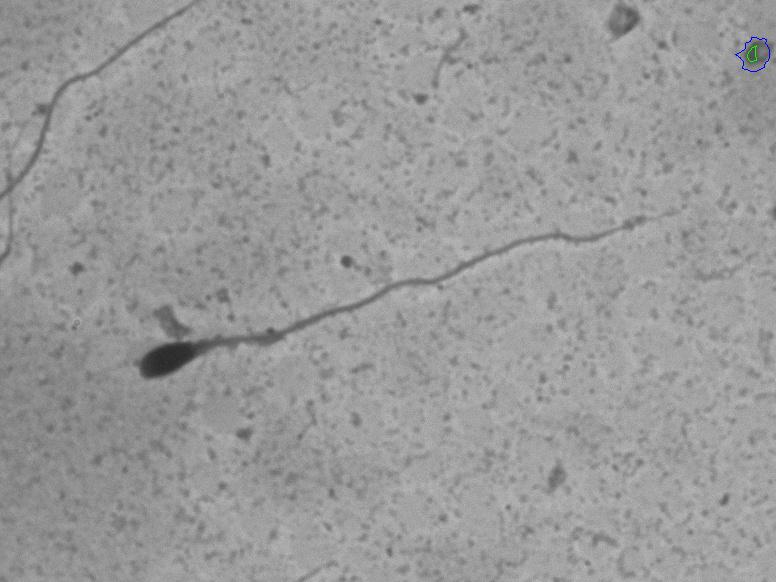Abnormal: (107, 186, 681, 420)
